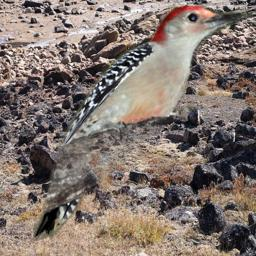Woodpecker: (33, 3, 252, 241)
